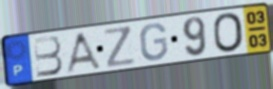9: (182, 15, 210, 59)
A: (63, 30, 104, 74)
B: (32, 35, 65, 79)
G: (138, 22, 169, 63)
O: (211, 11, 246, 54)
Z: (102, 24, 138, 69)
